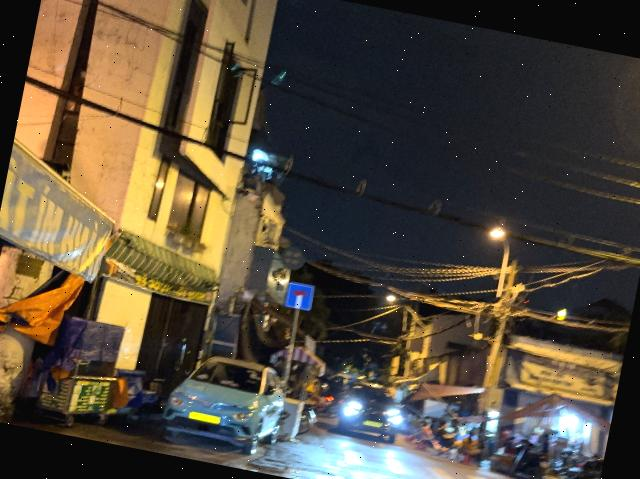duong-cut: (284, 280, 314, 311)
